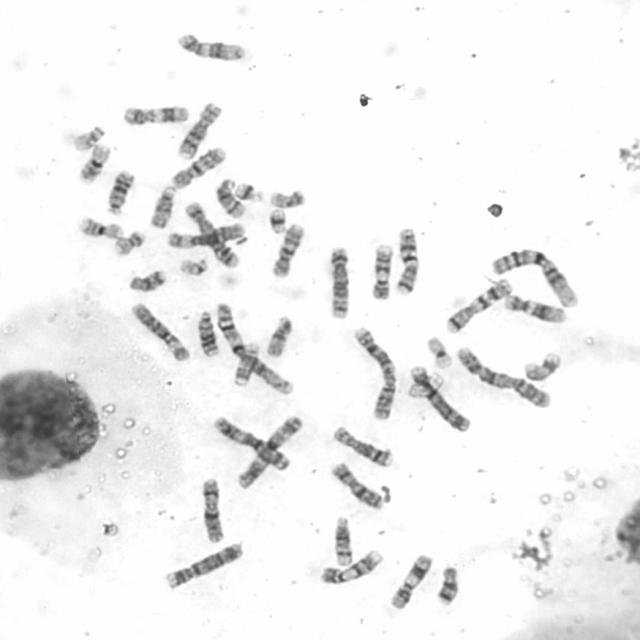A1: (213, 300, 294, 396), (490, 247, 581, 309)
A2: (455, 344, 553, 410), (352, 325, 400, 425)
A3: (235, 414, 303, 492), (212, 415, 293, 473)
B4: (162, 538, 249, 590), (409, 363, 472, 434)
B5: (183, 200, 240, 269), (324, 244, 355, 322)
C10: (170, 145, 228, 189), (269, 222, 304, 280)
C11: (388, 552, 433, 611), (122, 104, 192, 125)
C12: (174, 31, 249, 63), (502, 294, 568, 326)
C6: (129, 300, 192, 362), (164, 222, 246, 250)
C7: (444, 276, 514, 336), (395, 227, 421, 296)
C8: (331, 425, 396, 469), (176, 102, 223, 159)
C9: (320, 548, 382, 586), (371, 243, 394, 300)
D13: (106, 168, 136, 215), (195, 311, 221, 358)
D14: (215, 178, 248, 220), (332, 515, 356, 566)
D15: (146, 184, 177, 232), (263, 313, 294, 360)
E16: (76, 143, 112, 186), (80, 214, 125, 240)
E17: (523, 348, 564, 382), (233, 342, 260, 386)
E18: (434, 562, 466, 608), (126, 268, 170, 293)
F19: (406, 371, 445, 400), (425, 334, 454, 370)
F20: (112, 228, 144, 256), (268, 188, 305, 209)
G21: (232, 181, 265, 205), (269, 208, 288, 234)
G22: (70, 125, 107, 152), (176, 256, 213, 277)
X: (330, 460, 385, 509), (200, 477, 227, 545)
